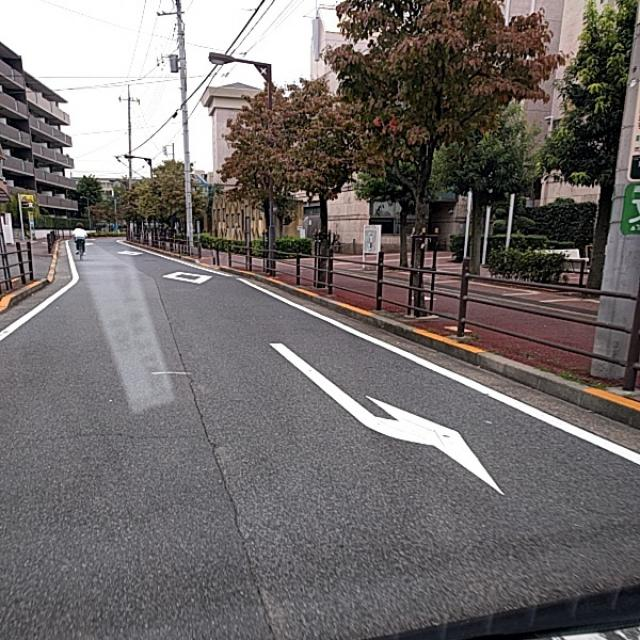pothole: (194, 409, 248, 524)
